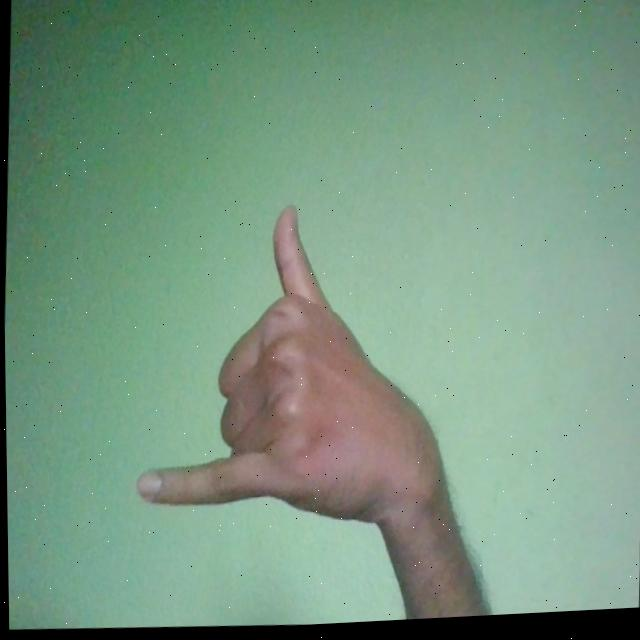Call Me: (130, 194, 453, 541)
